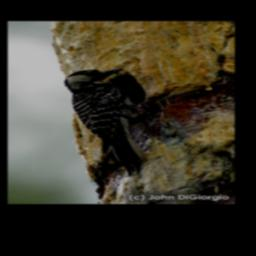Woodpecker: (63, 68, 164, 178)
